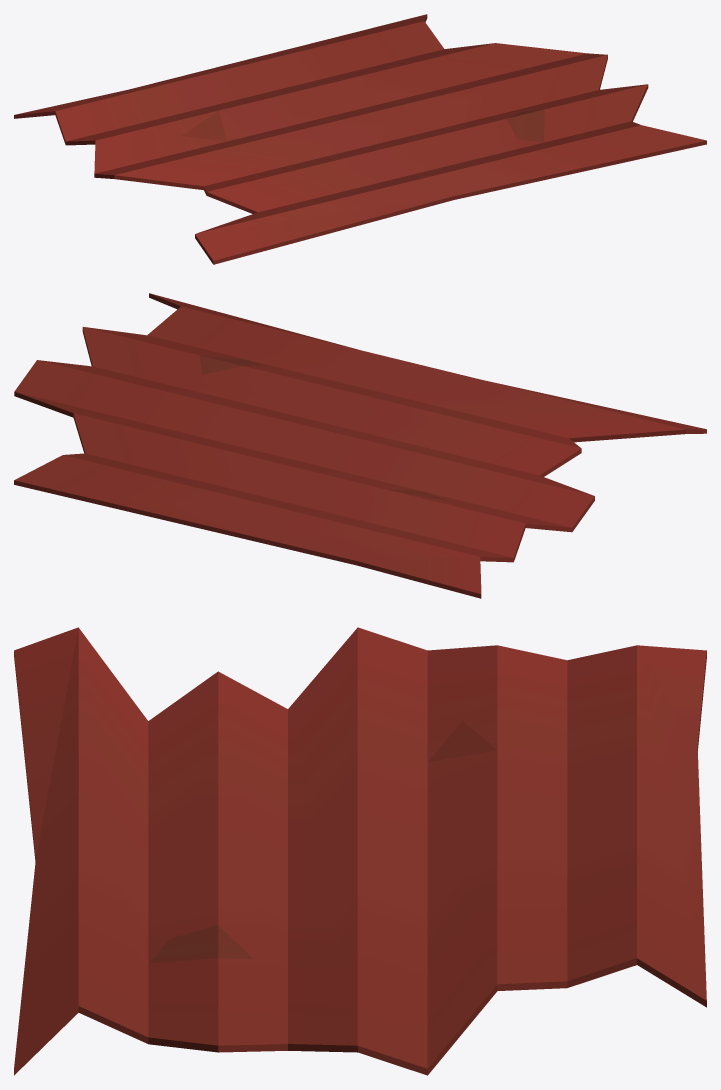
The model's file is SheetMetal_B_2.fbx.
The picture shows the model from 3 angles, top to bottom: view 1: azimuth 30°, elevation 25°; view 2: azimuth 150°, elevation 25°; view 3: azimuth 270°, elevation 25°; orthographic projection. The views are drawn at different scales.
Parts seen in each view (by area): view 1: SheetMetal_B_2; view 2: SheetMetal_B_2; view 3: SheetMetal_B_2.
Boxes of the visible parts, left/top/right/bottom form: SheetMetal_B_2: left=14, top=14, right=706, bottom=264; SheetMetal_B_2: left=14, top=293, right=706, bottom=598; SheetMetal_B_2: left=14, top=627, right=706, bottom=1075.
Size of the model in its own units: 137 by 4.58 by 96.05.
